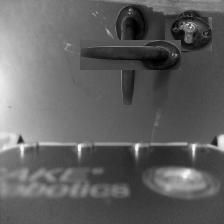Door Handle: (97, 22, 163, 88)
Lock: (168, 13, 209, 54)
